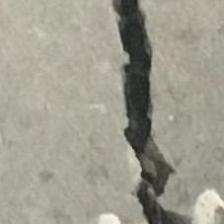Crack: (72, 0, 198, 224)
